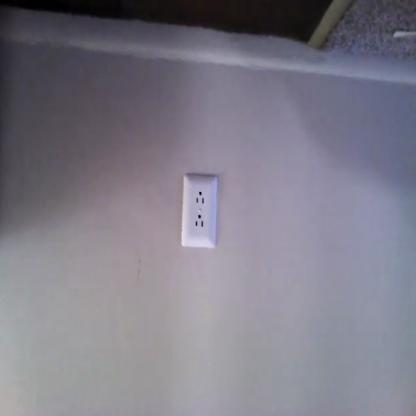OUTLET: (180, 172, 220, 250)
